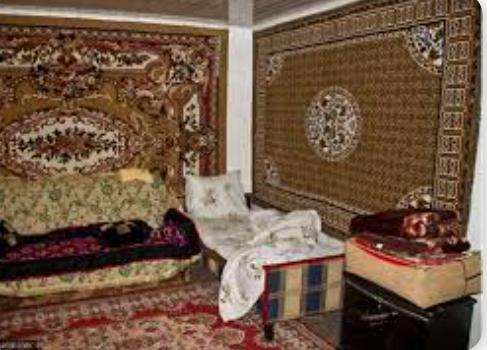carpet: (0, 17, 233, 219), (0, 262, 332, 350)
